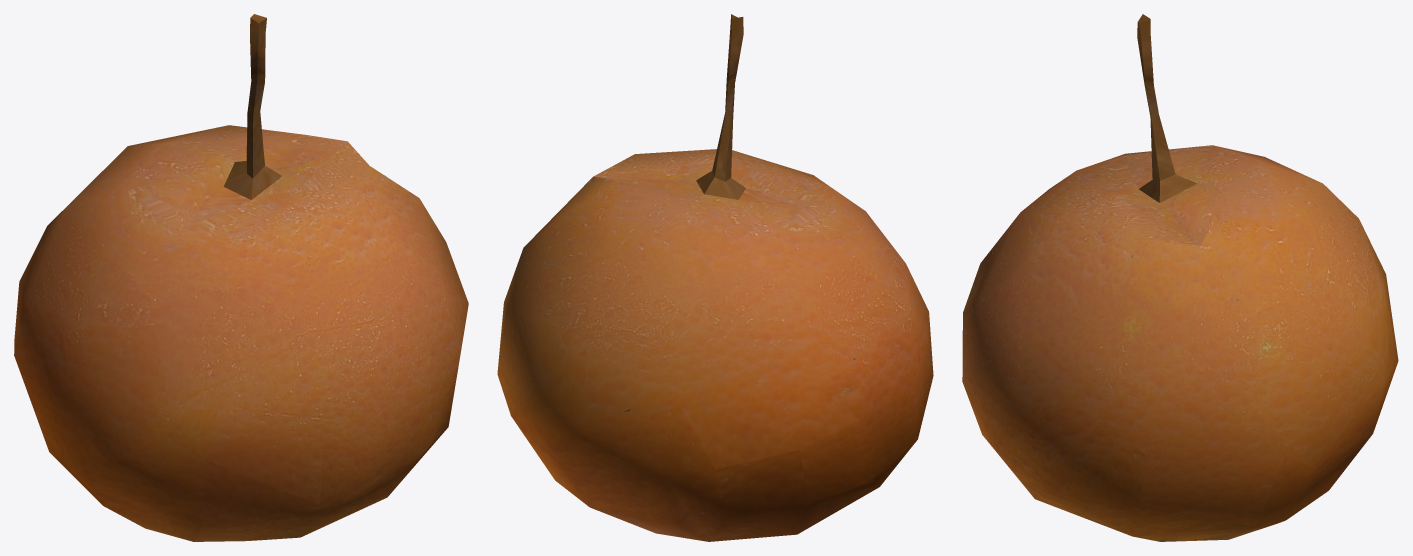
3 renders of one model, left to right at view 1: azimuth 30°, elevation 25°; view 2: azimuth 150°, elevation 25°; view 3: azimuth 270°, elevation 25°, orthographic. The views are drawn at different scales.
Parts seen in each view (by area): view 1: 33_mandarin; view 2: 33_mandarin; view 3: 33_mandarin.
Boxes of the visible parts, x1,y1,x2,y2 form: 33_mandarin: [14, 14, 468, 541]; 33_mandarin: [497, 14, 933, 541]; 33_mandarin: [962, 14, 1398, 541].
Size of the model in its own units: 101 by 121 by 98.72.
